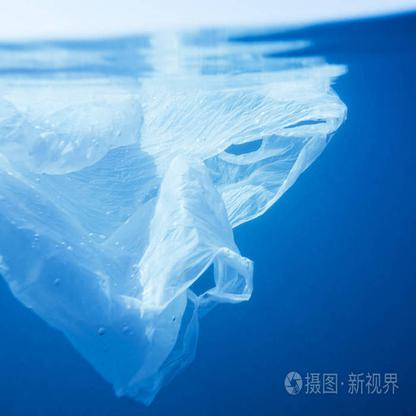plastic bag: (1, 72, 349, 400)
